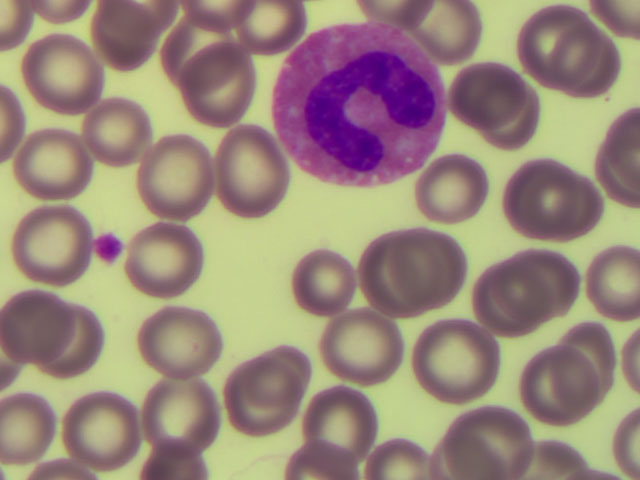Platelets: (97, 232, 121, 264)
RBC: (523, 11, 602, 89), (149, 375, 220, 456), (513, 167, 587, 244), (418, 324, 495, 397), (188, 41, 257, 121), (22, 44, 103, 109), (325, 318, 403, 384), (21, 210, 92, 282), (449, 421, 535, 480), (391, 237, 463, 307), (363, 237, 419, 326), (222, 129, 279, 216), (529, 351, 595, 426), (148, 140, 212, 215), (132, 232, 203, 298), (27, 313, 103, 374), (238, 348, 308, 413), (482, 269, 551, 334), (10, 294, 74, 364), (230, 367, 297, 432), (308, 392, 373, 459), (142, 316, 222, 370), (25, 133, 90, 199), (565, 318, 614, 405), (459, 67, 528, 128), (503, 259, 578, 315), (69, 402, 140, 458), (93, 8, 159, 67), (594, 248, 640, 329), (298, 248, 354, 313), (84, 105, 152, 158), (416, 2, 486, 53), (1, 397, 51, 462), (429, 162, 484, 221), (611, 110, 640, 204), (511, 444, 585, 480), (498, 86, 538, 148), (248, 1, 297, 49), (292, 445, 358, 480), (373, 443, 435, 480), (182, 1, 240, 35), (1, 80, 22, 161), (587, 1, 640, 32), (357, 1, 438, 20), (624, 407, 640, 480), (1, 1, 30, 40), (624, 329, 640, 394), (32, 1, 85, 20), (570, 464, 621, 480)
WBC: (291, 32, 424, 180)
